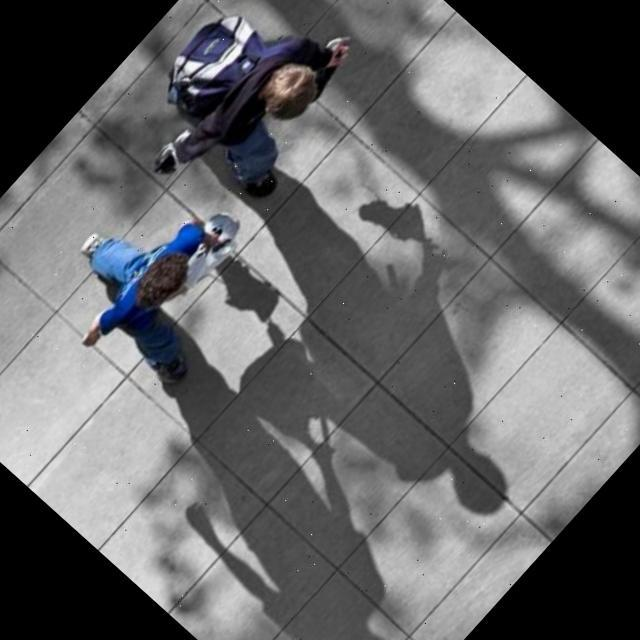person: (24, 149, 288, 414), (105, 0, 389, 242)
